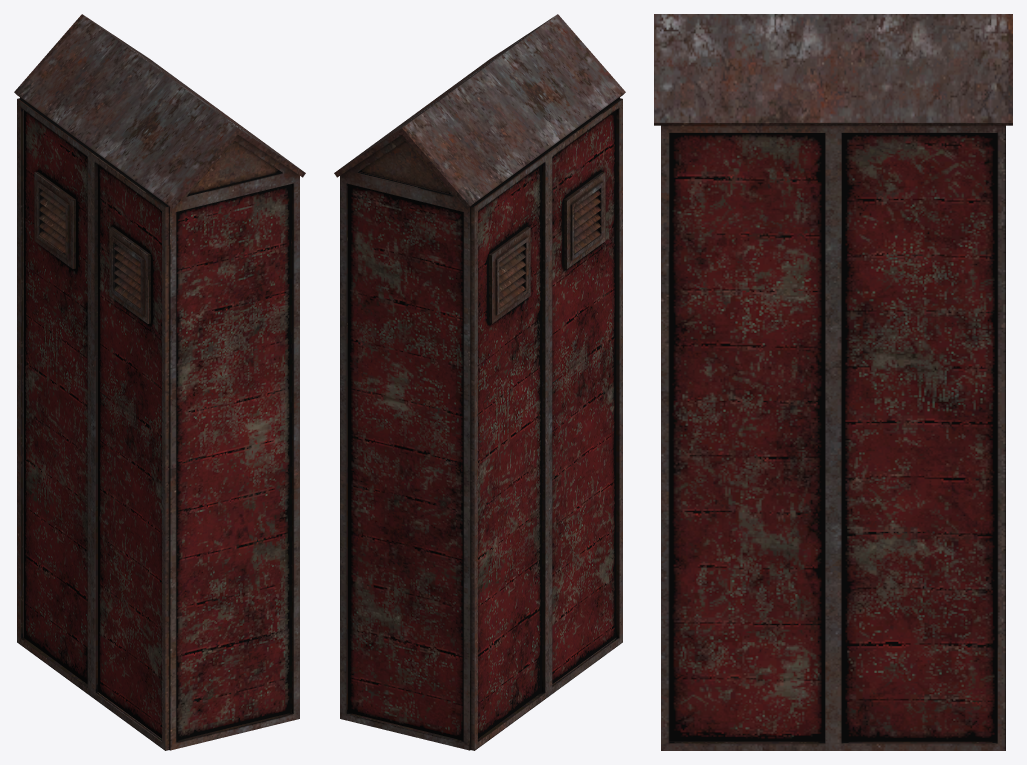
Rendered from locker.glb.
The picture shows the model from 3 angles, left to right: view 1: azimuth 30°, elevation 25°; view 2: azimuth 150°, elevation 25°; view 3: azimuth 270°, elevation 25°; orthographic projection. The views are drawn at different scales.
Parts seen in each view (by area): view 1: Asset3DLoader.sceneRoot; view 2: Asset3DLoader.sceneRoot; view 3: Asset3DLoader.sceneRoot.
Part boxes in pixels (x1,y1,x2,y2): Asset3DLoader.sceneRoot: (14,14,305,750); Asset3DLoader.sceneRoot: (334,14,625,750); Asset3DLoader.sceneRoot: (654,14,1012,750).
Bounding box in the file's own units: 1.7 × 7.13 × 3.31.
Materials: 1 (1 with a texture image).
